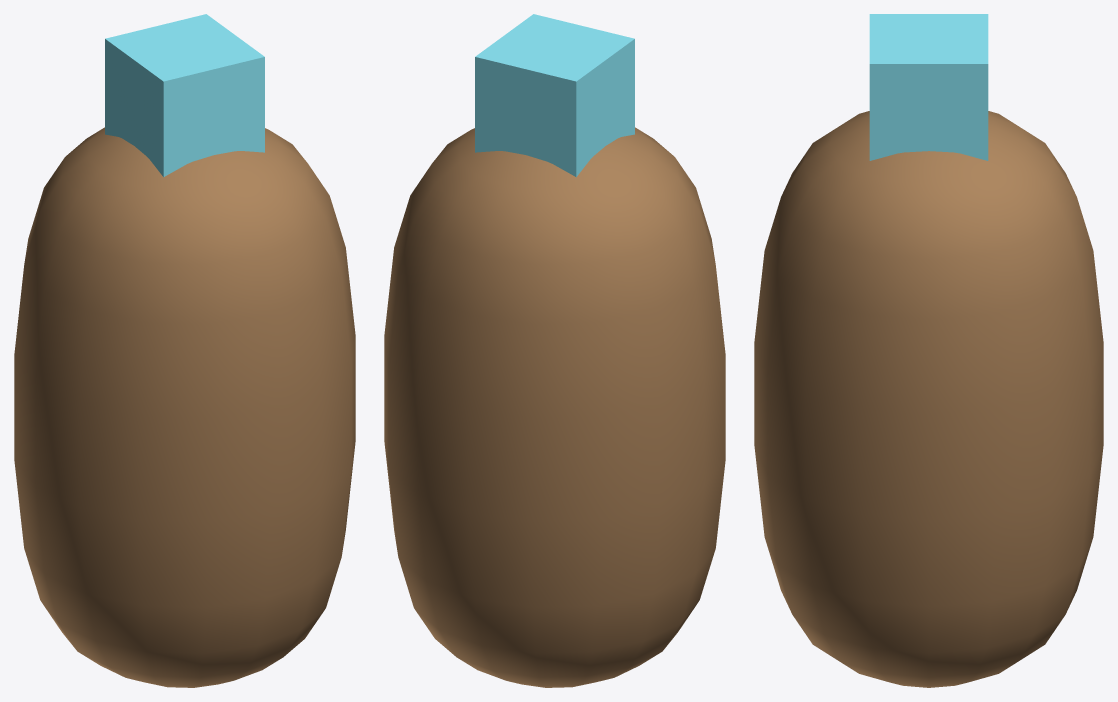
The model's file is CRP_bound.glb.
The picture shows the model from 3 angles, left to right: view 1: azimuth 30°, elevation 25°; view 2: azimuth 150°, elevation 25°; view 3: azimuth 270°, elevation 25°; orthographic projection.
Visible parts, largest first — view 1: Sphere.001, Cube; view 2: Sphere.001, Cube; view 3: Sphere.001, Cube.
Part boxes in pixels (<box>): Sphere.001: <box>14,127,355,687</box>; Cube: <box>105,14,264,177</box>; Sphere.001: <box>384,127,725,687</box>; Cube: <box>475,14,634,177</box>; Sphere.001: <box>754,111,1103,687</box>; Cube: <box>869,14,988,160</box>.
Bounding box in the file's own units: 0.2942 × 0.5883 × 0.2942.
